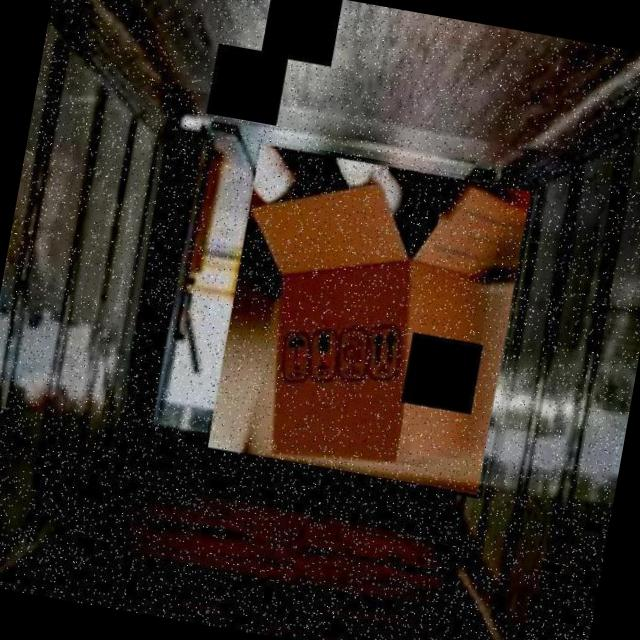box: (203, 138, 536, 499)
